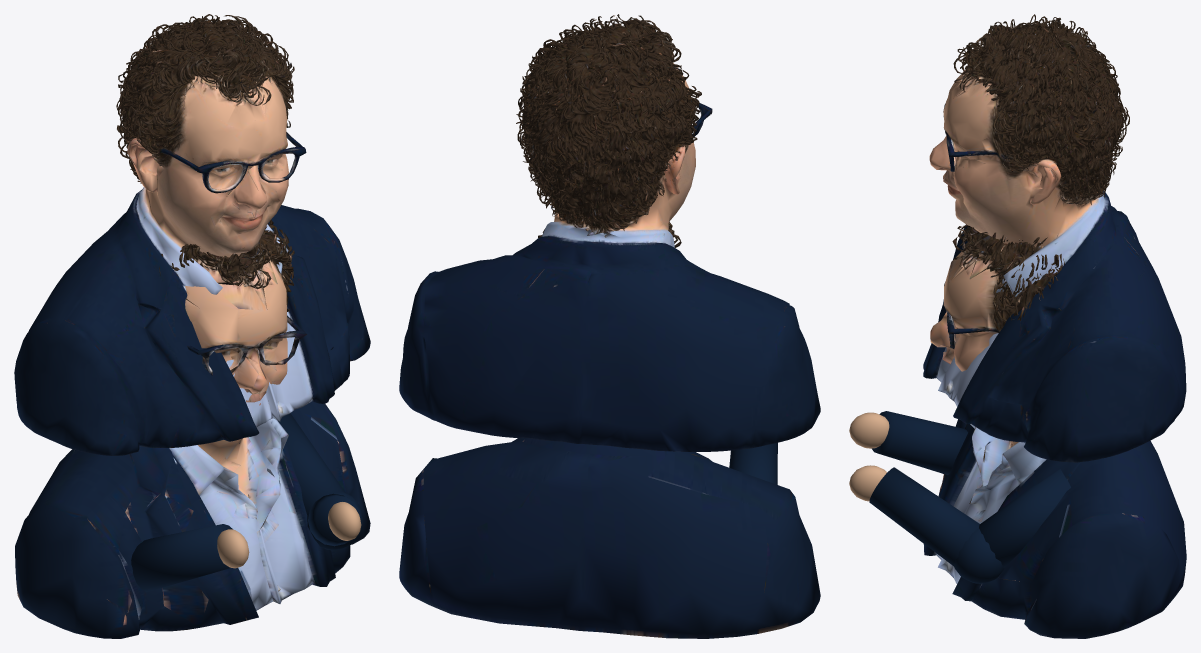
File: dario-runtime.glb
The picture shows the model from 3 angles, left to right: view 1: azimuth 30°, elevation 25°; view 2: azimuth 150°, elevation 25°; view 3: azimuth 270°, elevation 25°; orthographic projection. The views are drawn at different scales.
Visible parts, largest first — view 1: dario / portrait sculpture, dario / driving sculpture, dario / driving sleeves, dario / driving hands; view 2: dario / portrait sculpture, dario / driving sculpture, dario / driving sleeves; view 3: dario / portrait sculpture, dario / driving sculpture, dario / driving sleeves, dario / driving hands.
Part boxes in pixels (<box>): dario / portrait sculpture: <box>14,14,370,455</box>; dario / driving sculpture: <box>15,220,370,638</box>; dario / driving sleeves: <box>131,413,363,592</box>; dario / driving hands: <box>217,502,361,568</box>; dario / portrait sculpture: <box>399,14,820,451</box>; dario / driving sculpture: <box>399,222,820,638</box>; dario / driving sleeves: <box>729,442,777,484</box>; dario / portrait sculpture: <box>923,14,1186,462</box>; dario / driving sculpture: <box>923,224,1186,638</box>; dario / driving sleeves: <box>869,411,1070,583</box>; dario / driving hands: <box>849,412,889,501</box>.
Size of the model in its own units: 1.03 by 1.5 by 0.863.
Materials: 3 (1 with a texture image).
